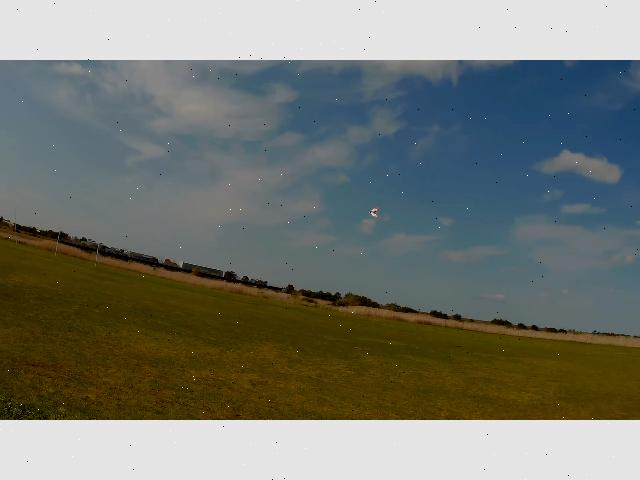Anti-Drone: (368, 208, 380, 217)
